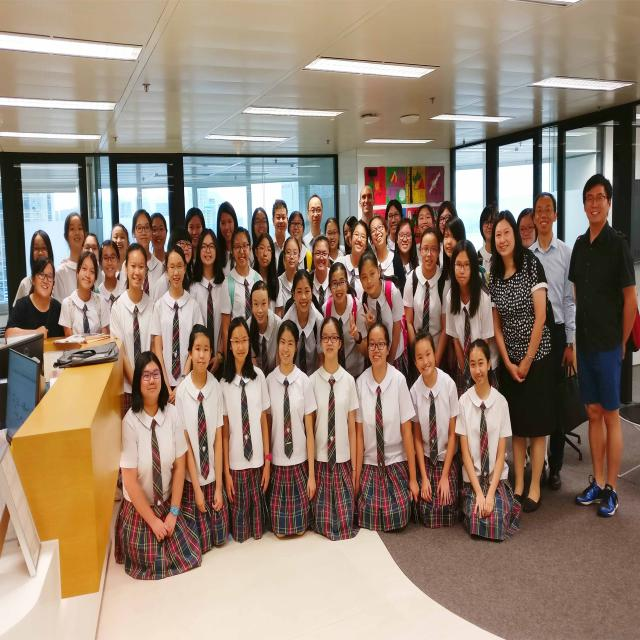body: (568, 172, 640, 520), (486, 209, 561, 516), (112, 347, 202, 583), (526, 191, 577, 490), (354, 321, 421, 535), (455, 336, 524, 542), (173, 323, 231, 555), (218, 316, 272, 544), (308, 315, 360, 542), (265, 318, 317, 538), (410, 332, 460, 530), (444, 237, 502, 403), (150, 244, 205, 408), (402, 226, 450, 392), (110, 242, 156, 414), (358, 249, 413, 391), (514, 206, 538, 469), (219, 225, 264, 362), (187, 228, 225, 381), (152, 226, 196, 356), (4, 257, 66, 344), (321, 261, 364, 383), (281, 268, 325, 377), (58, 251, 110, 338), (119, 208, 165, 301), (246, 280, 283, 378), (12, 228, 56, 308), (368, 214, 407, 299), (332, 220, 370, 302), (53, 212, 86, 305), (94, 237, 125, 336), (251, 231, 283, 320), (61, 232, 106, 293), (476, 204, 506, 294), (277, 210, 316, 278), (212, 200, 242, 280), (277, 234, 302, 320), (184, 207, 206, 283), (101, 223, 130, 280), (309, 234, 331, 308), (358, 184, 381, 254), (415, 204, 440, 268), (436, 200, 458, 271), (248, 207, 270, 270), (302, 194, 324, 254), (442, 216, 466, 269), (272, 199, 288, 278), (384, 199, 404, 255), (150, 212, 168, 271), (324, 217, 344, 270), (324, 217, 344, 266)
